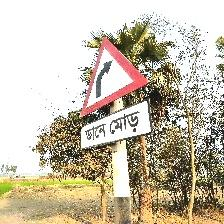Right-turn: (78, 38, 152, 150)
